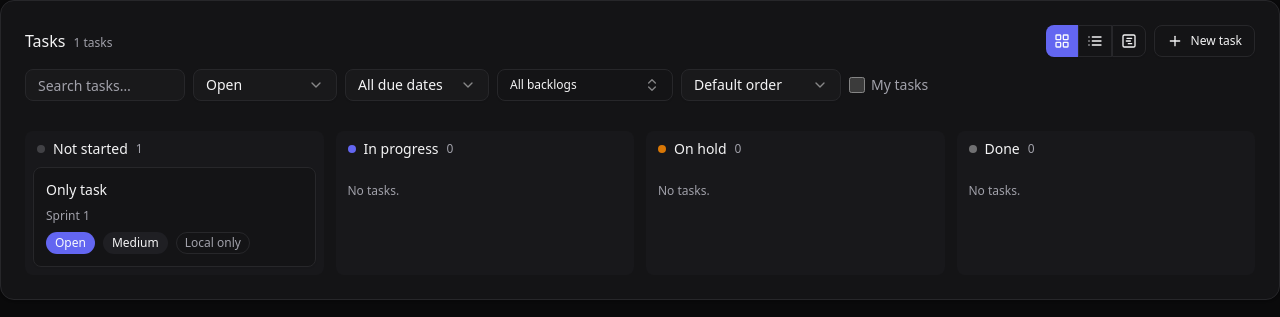
it: TaskListSection › View mode in the URL (issue #153) › switches the rendered view immediately, without waiting on a navigation
Click the button named "List": [1095, 41] box x1=1078 y1=25 x2=1112 y2=57
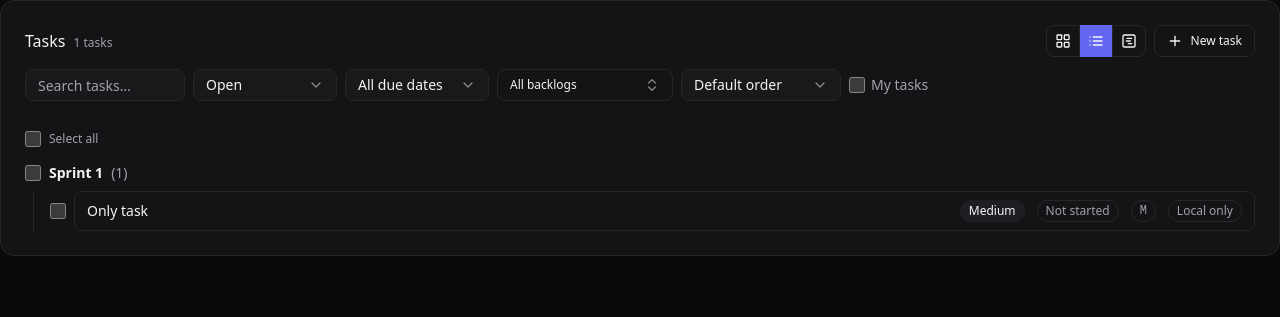
Now the heading "Sprint 1 (1)" is shown, box x1=25 y1=163 x2=128 y2=182
